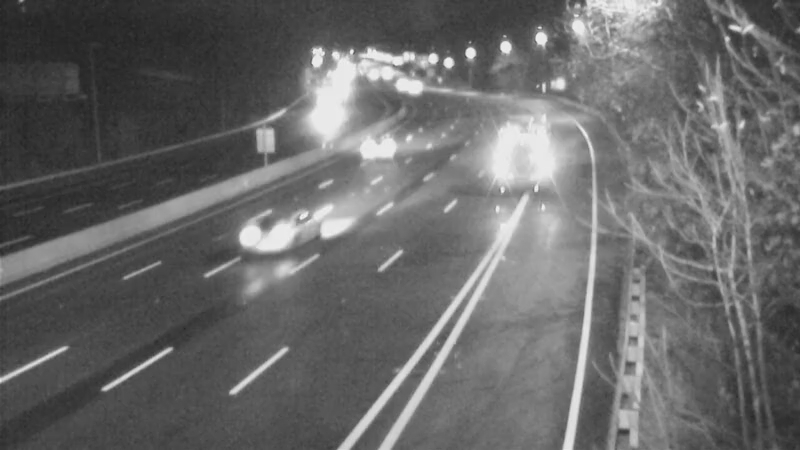vehicle: (230, 202, 310, 282), (345, 51, 395, 101), (376, 60, 426, 110), (386, 66, 436, 116), (499, 117, 549, 167), (352, 123, 402, 173), (299, 82, 349, 132)
